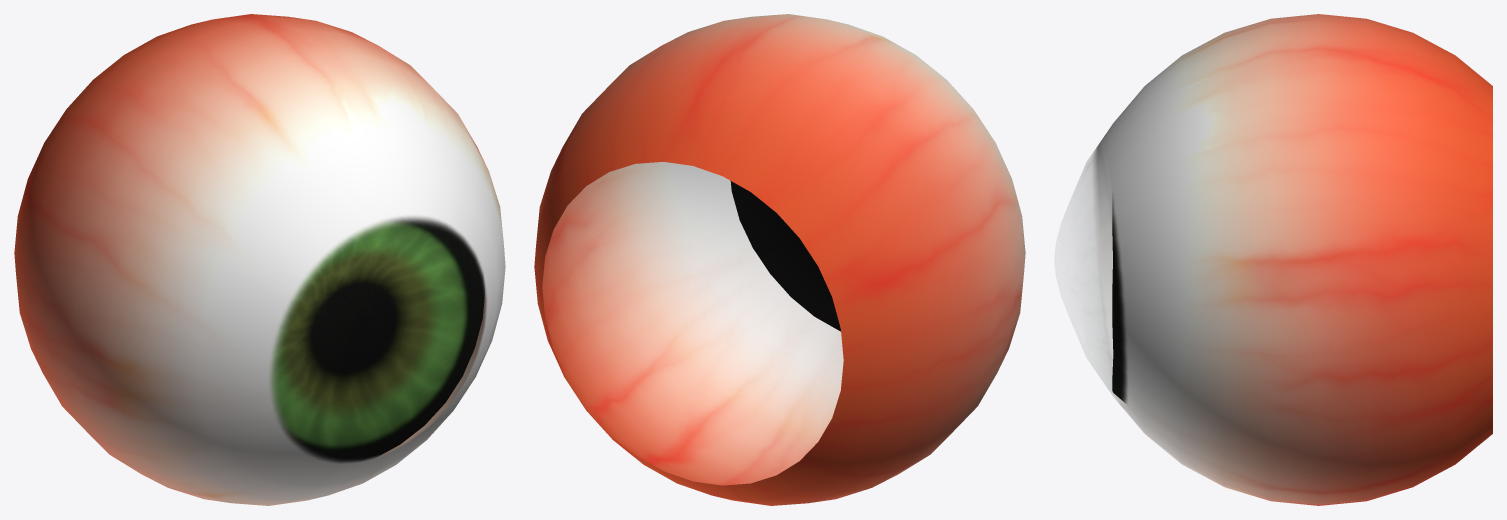
The model's file is Eye.glb.
The picture shows the model from 3 angles, left to right: view 1: azimuth 30°, elevation 25°; view 2: azimuth 150°, elevation 25°; view 3: azimuth 270°, elevation 25°; orthographic projection.
Visible parts, largest first — view 1: Eye.R; view 2: Eye.R; view 3: Eye.R.
Boxes of the visible parts, x1,y1,x2,y2 form: Eye.R: (14, 14, 505, 505); Eye.R: (534, 14, 1025, 505); Eye.R: (1073, 14, 1492, 505).
Bounding box in the file's own units: 2 × 2 × 1.78.
2 materials, 2 textured.
